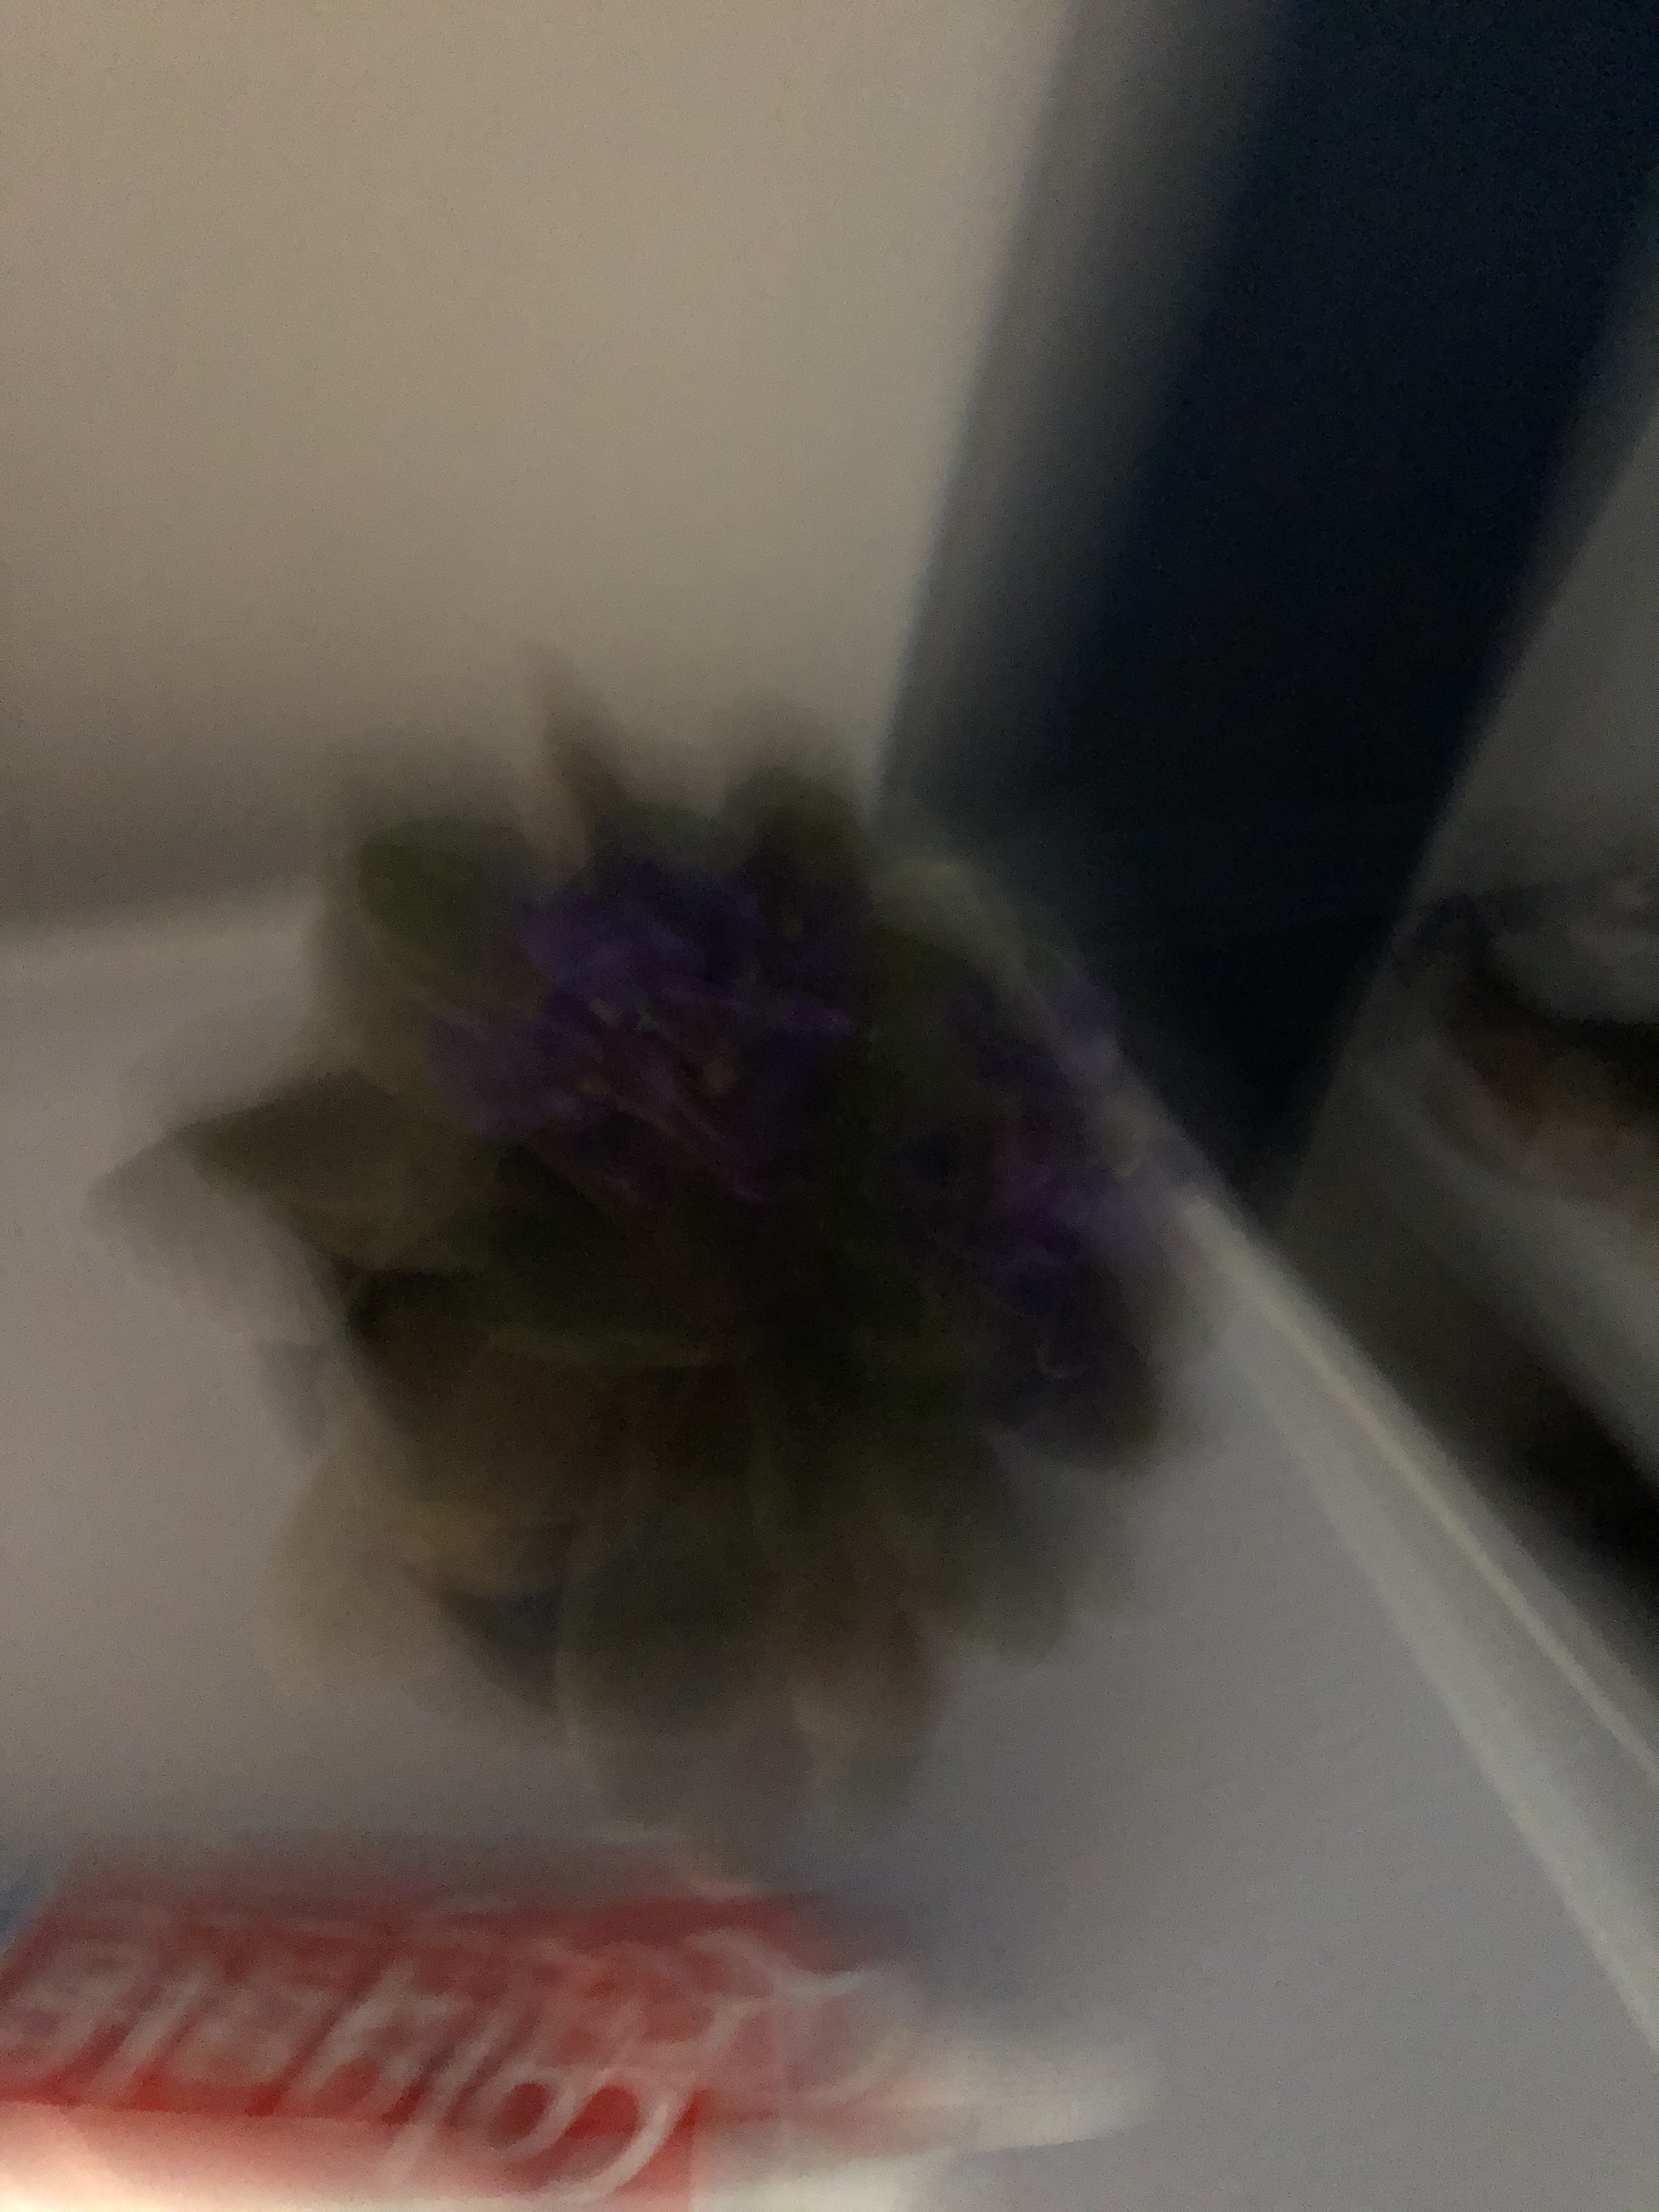ignore: (150, 627, 1220, 1858)
